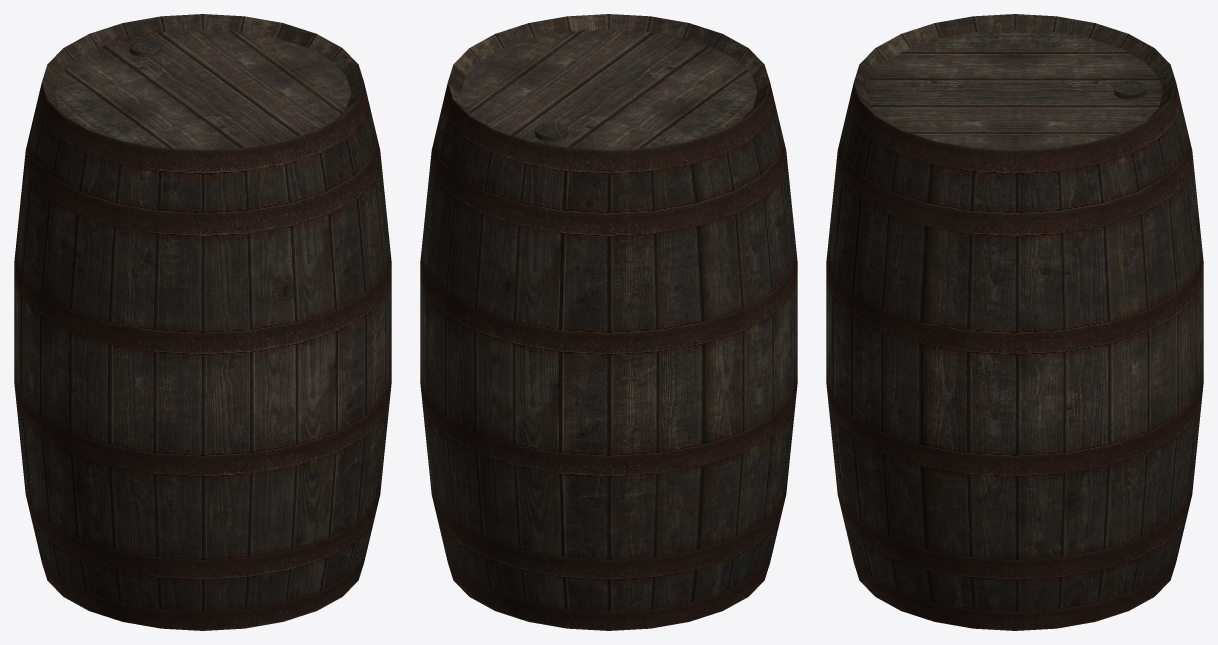
Rendered from barrel.DAE.
3 renders of one model, left to right at view 1: azimuth 30°, elevation 25°; view 2: azimuth 150°, elevation 25°; view 3: azimuth 270°, elevation 25°, orthographic.
Parts seen in each view (by area): view 1: barrel; view 2: barrel; view 3: barrel.
Boxes of the visible parts, x1,y1,x2,y2 form: barrel: [14, 14, 391, 630]; barrel: [420, 14, 797, 630]; barrel: [826, 14, 1203, 630].
Size of what is drawn, in the model's own units: 0.8217 by 0.8217 by 1.16.
